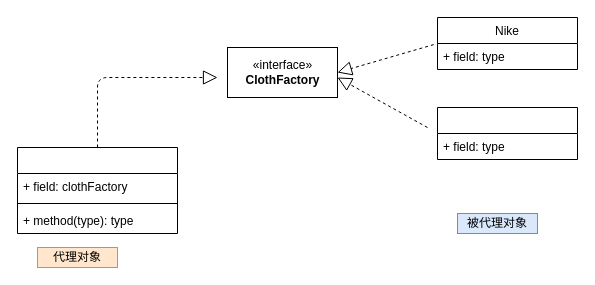
Some shapes in this 595 by 285 pixel diagram are drawn without their labels. Here are the shapes that lost their labels. From the top down, the box of each, then its label:
(436, 106, 578, 160): Adidas
(16, 146, 178, 234): ProxyClothFactory
